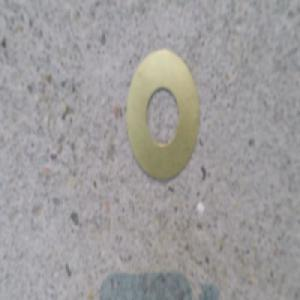Washer: (122, 46, 201, 184)
